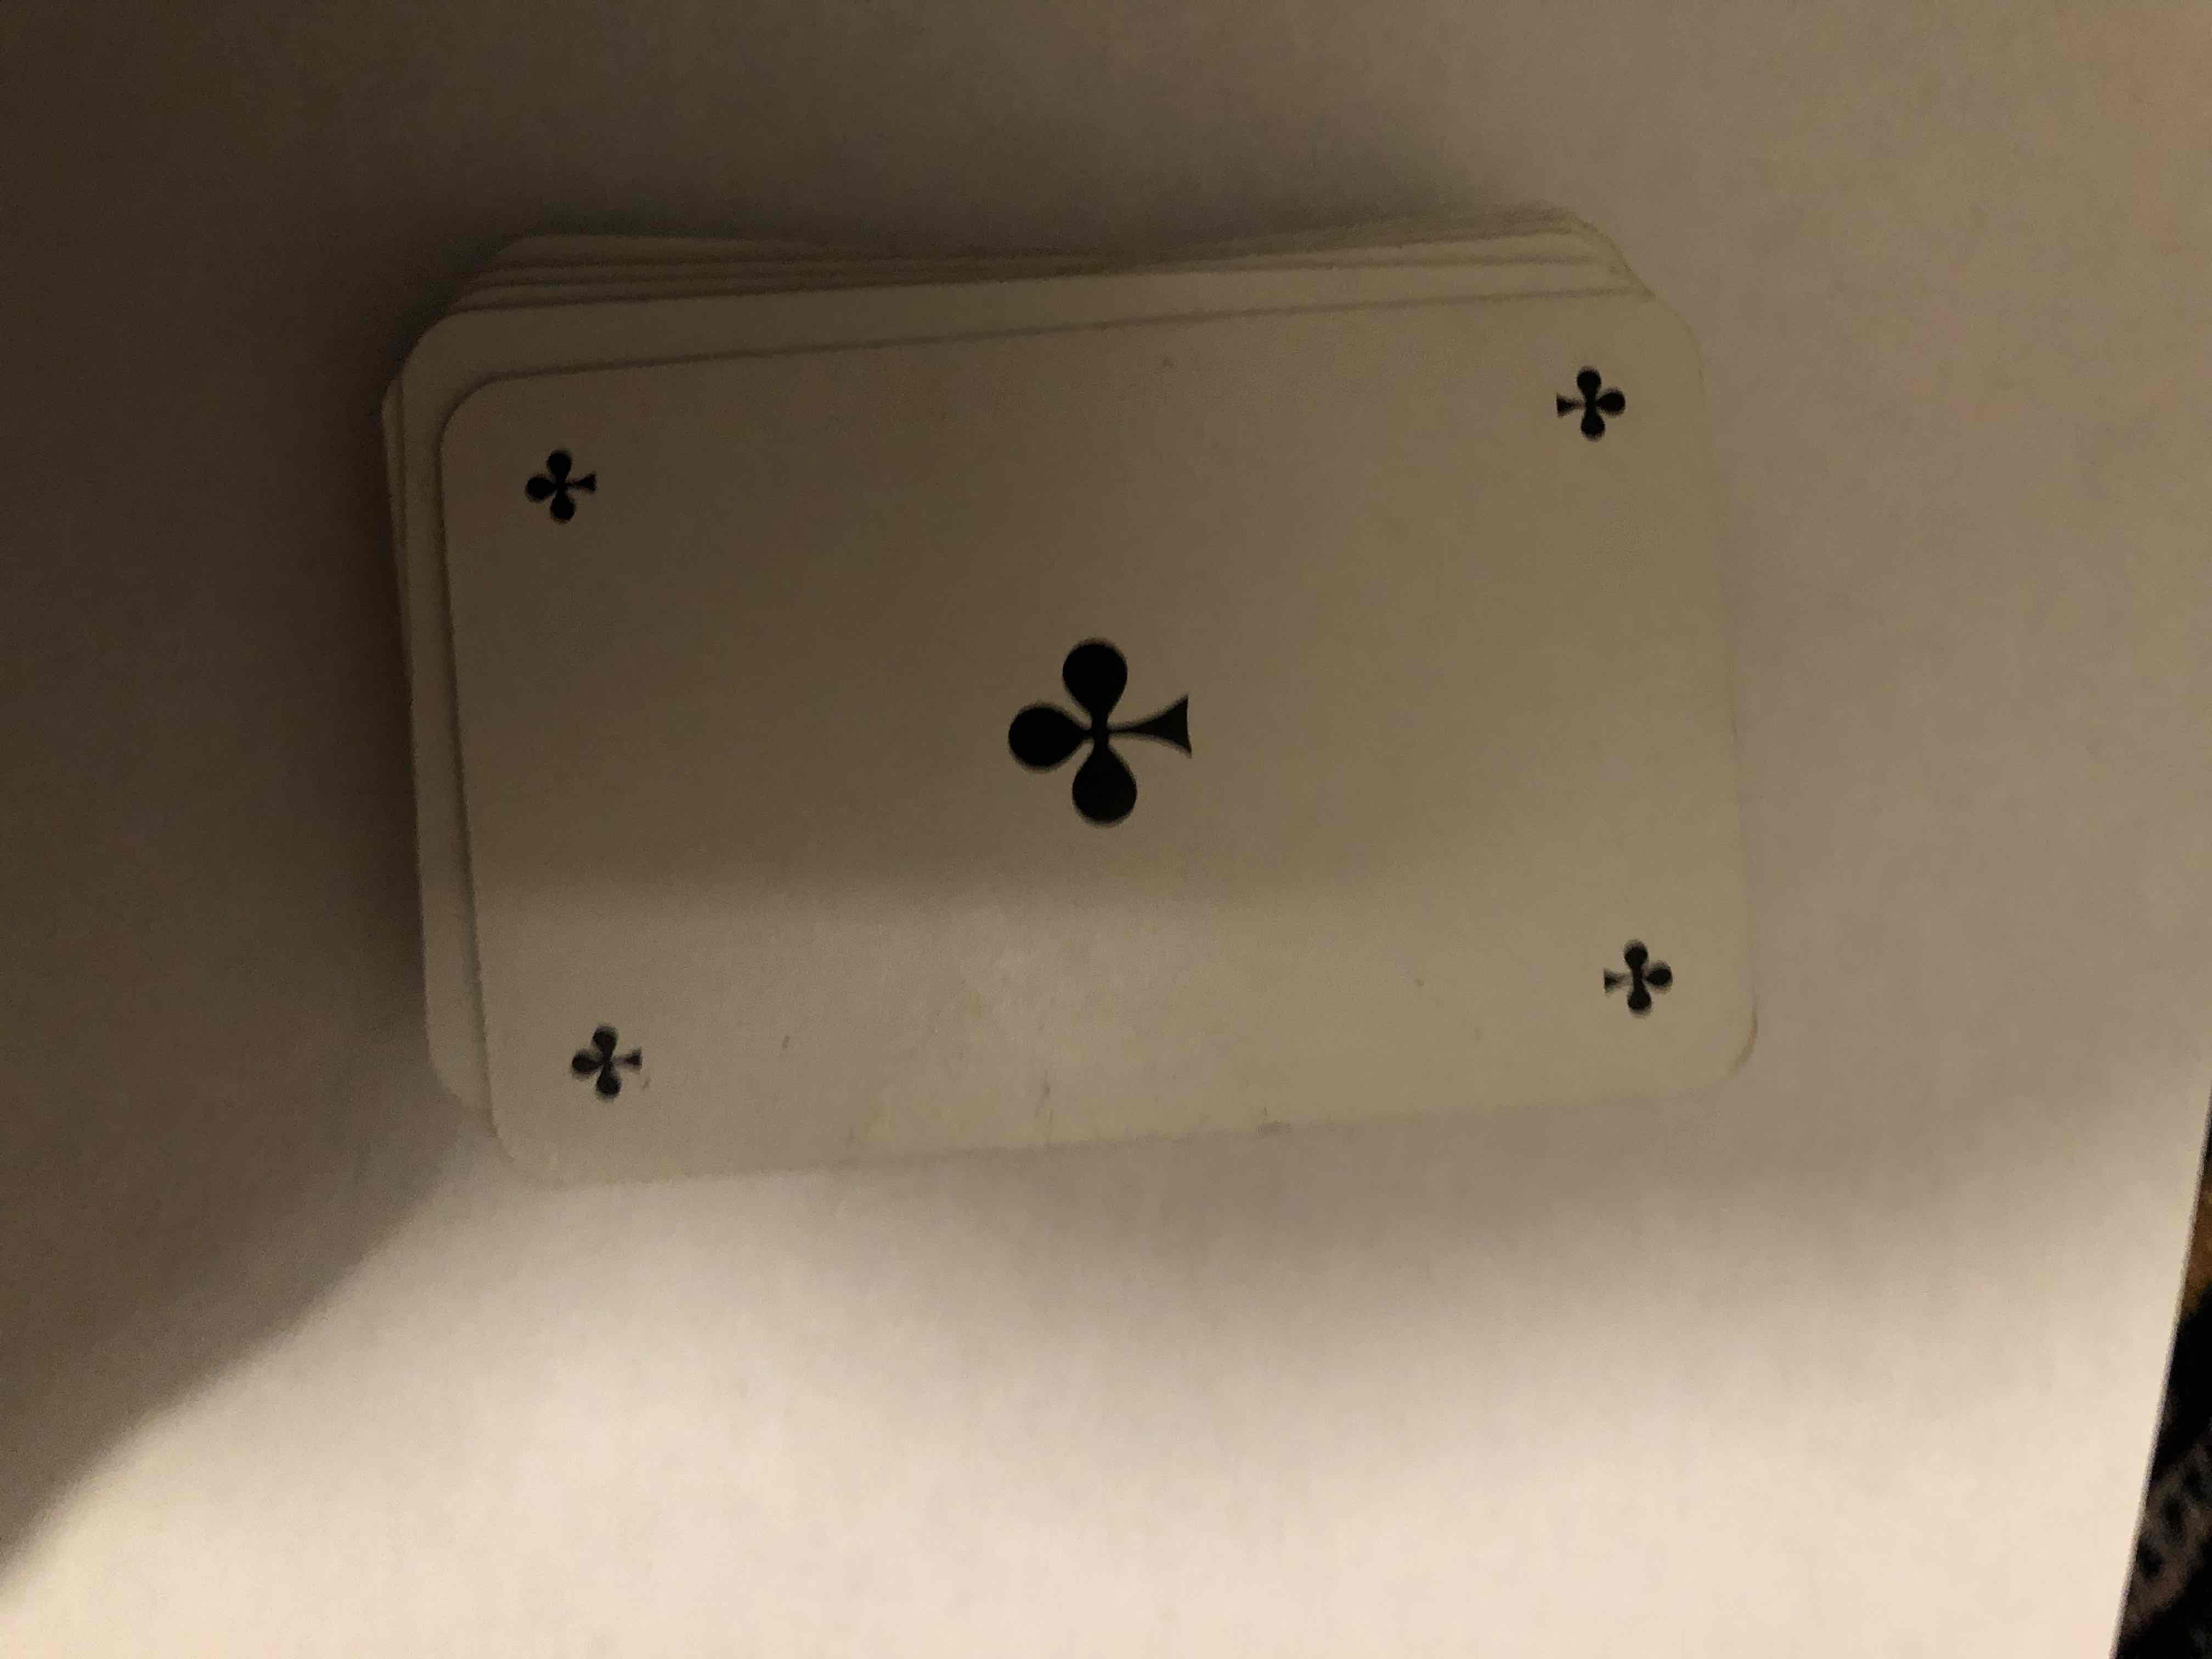clubsAce: (421, 342, 1787, 1166)
